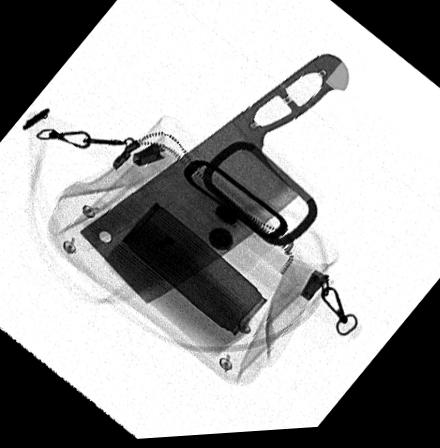Knife: (77, 58, 350, 308)
